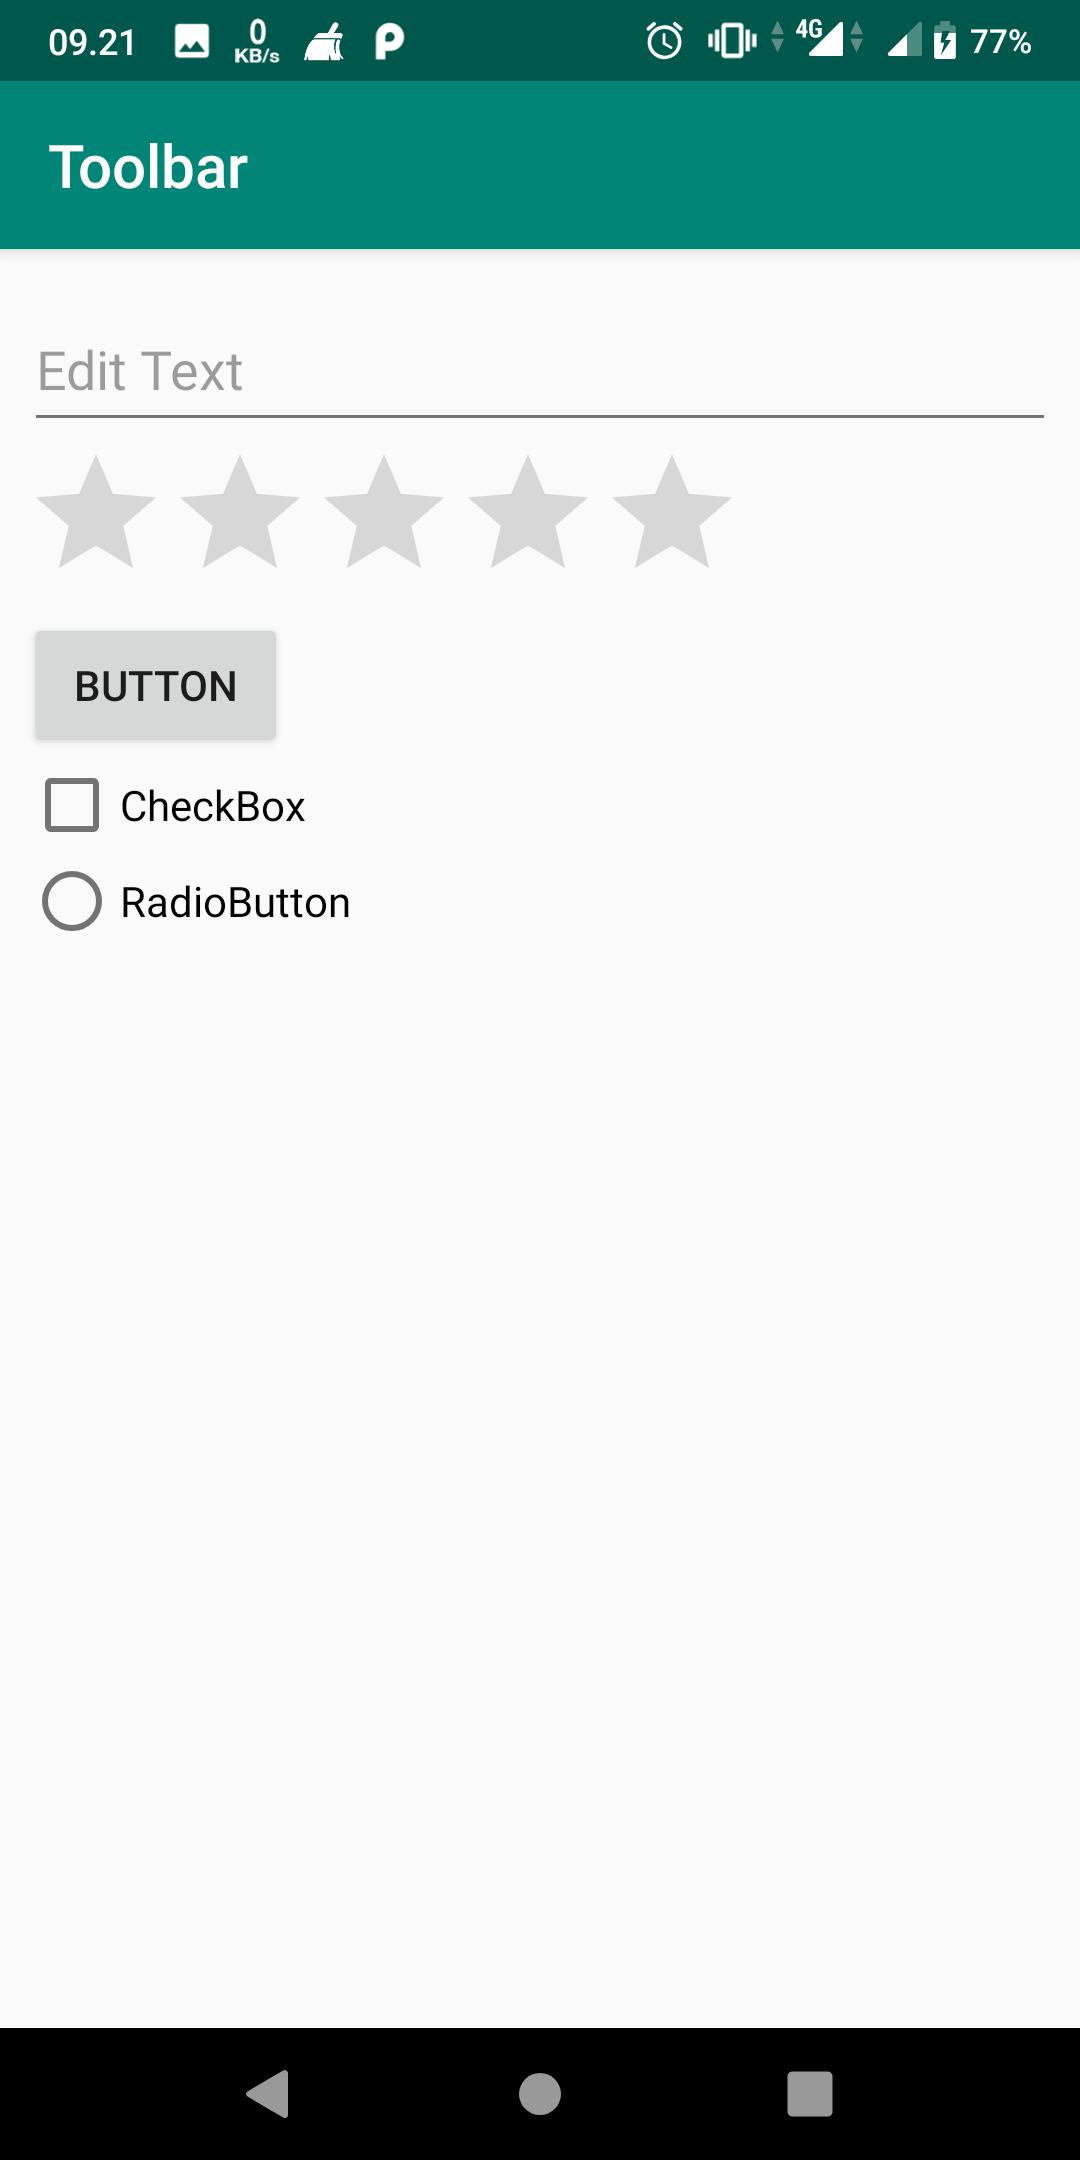button: (25, 619, 296, 758)
checkBox: (34, 767, 320, 854)
editText: (25, 337, 1061, 444)
radioButton: (28, 864, 361, 931)
ratingBar: (32, 455, 741, 585)
toolbar: (3, 83, 1080, 249)
